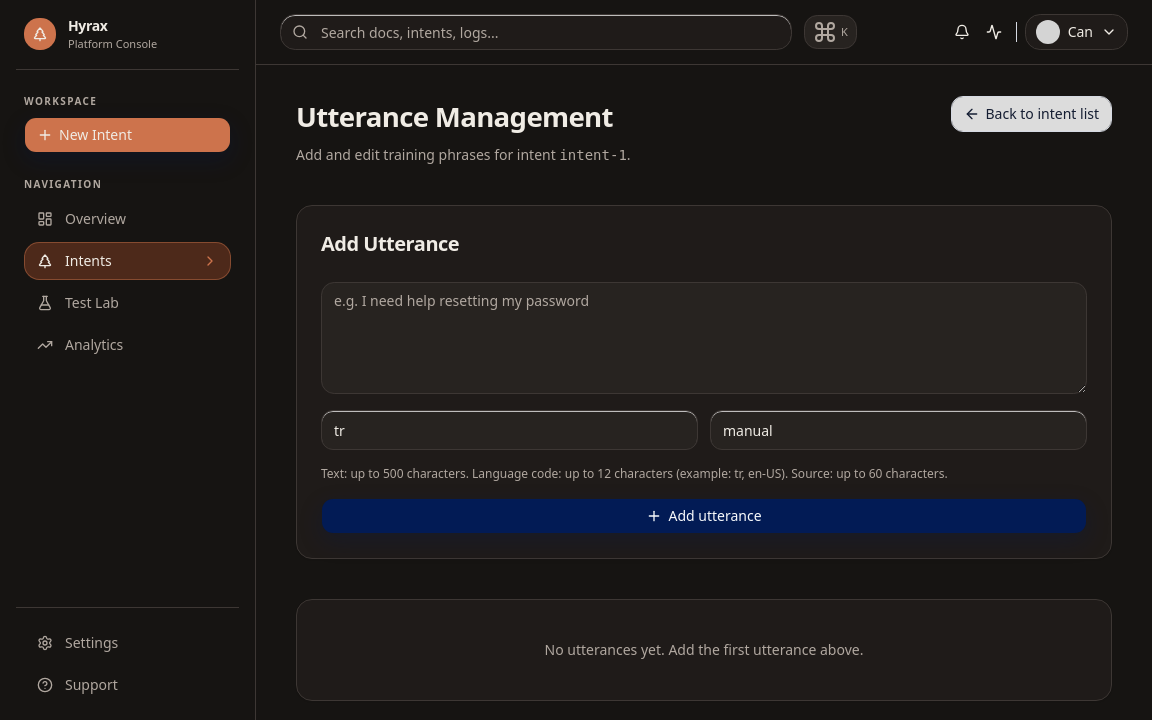
Test: IntentUtterancesPage › shows validation error when utterance text is empty
Click the button "Add utterance": (704, 516) [321,498,1087,534]
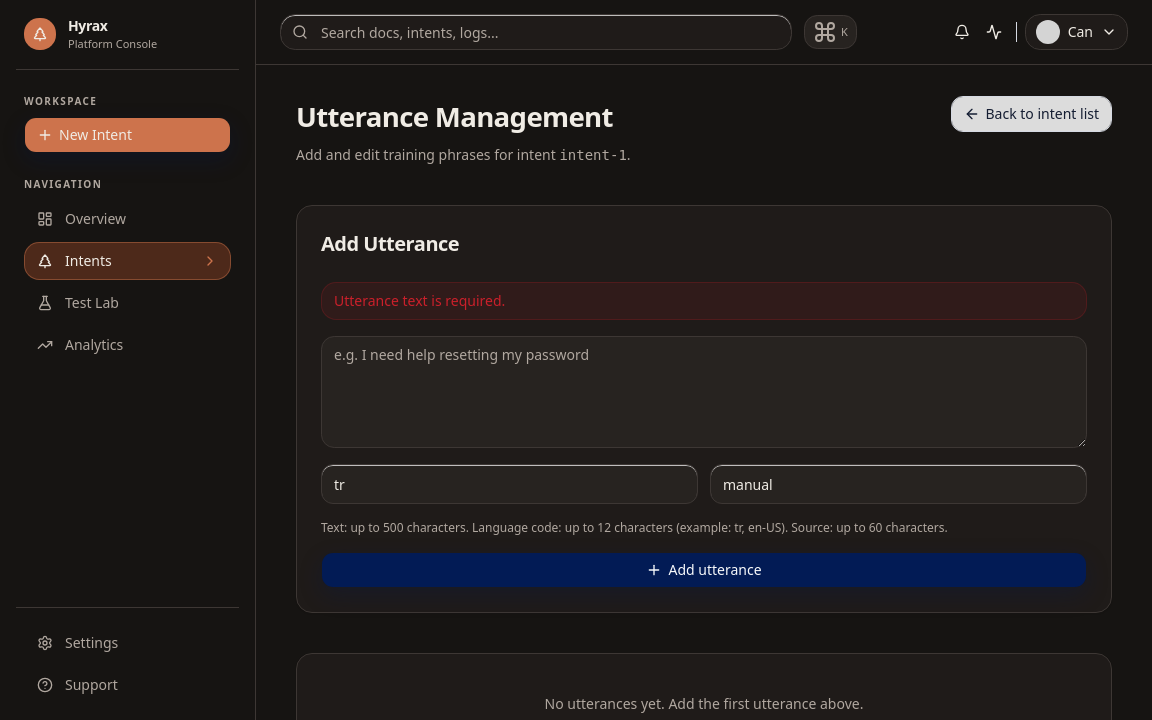
Check: the text "Utterance text is required." is shown, box [321,282,1087,320]
